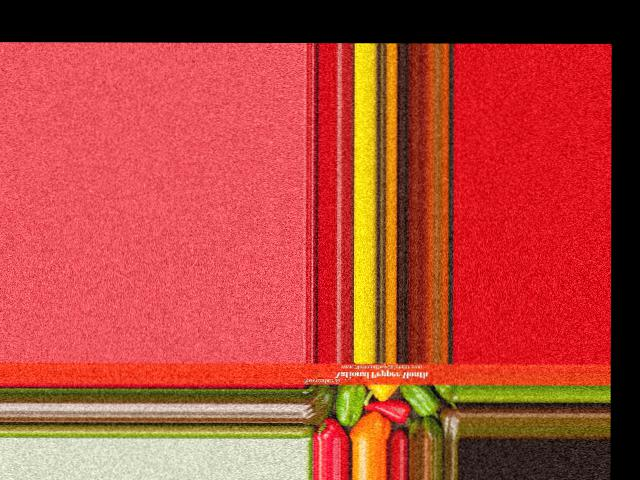bell_pepper: (302, 384, 333, 424)
